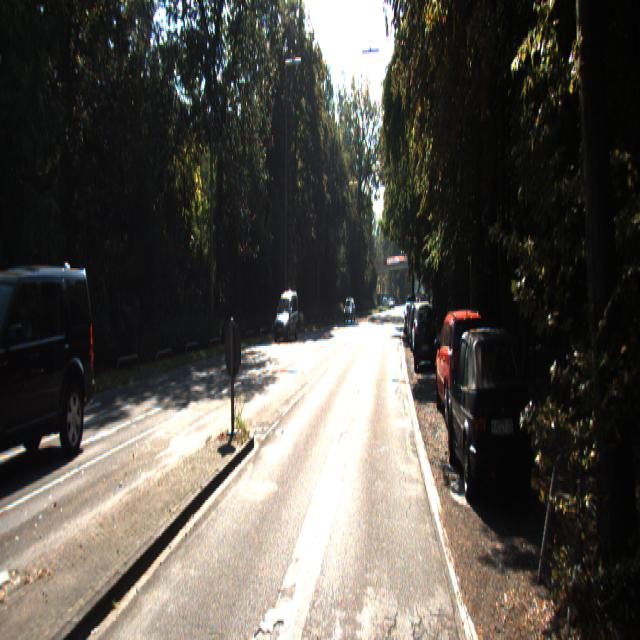Car: (0, 255, 104, 489), (445, 322, 535, 514), (433, 306, 491, 434), (413, 300, 435, 369), (273, 291, 300, 346)
